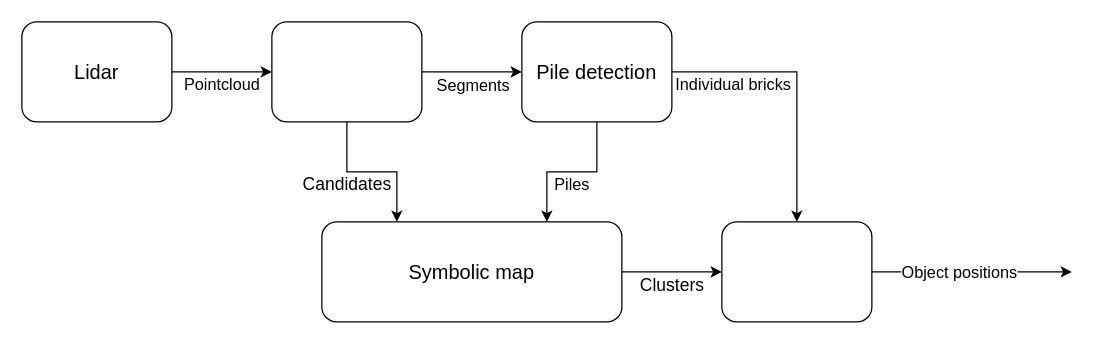
Some shapes in this 1104 by 344 pixel diagram are drawn without their labels. The centre of each missing label's shape, as x and y in pixels:
"Line extraction" belongs at (346,71).
"Pattern fitting" belongs at (796,271).
